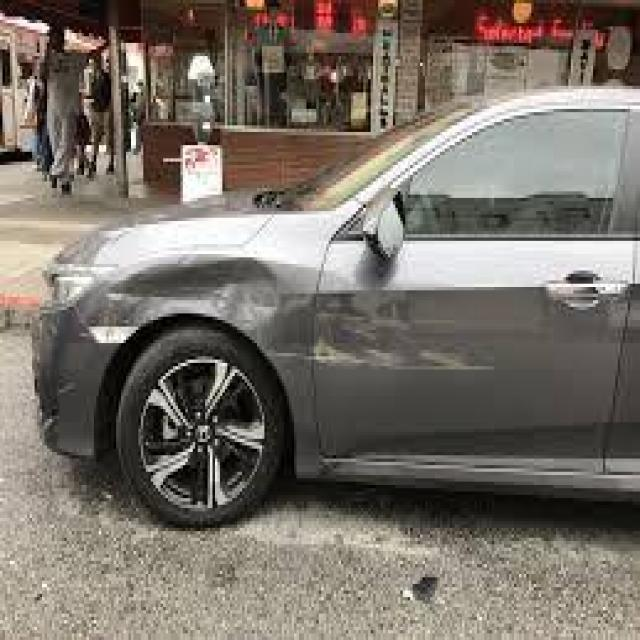damaged: (101, 254, 499, 373)
